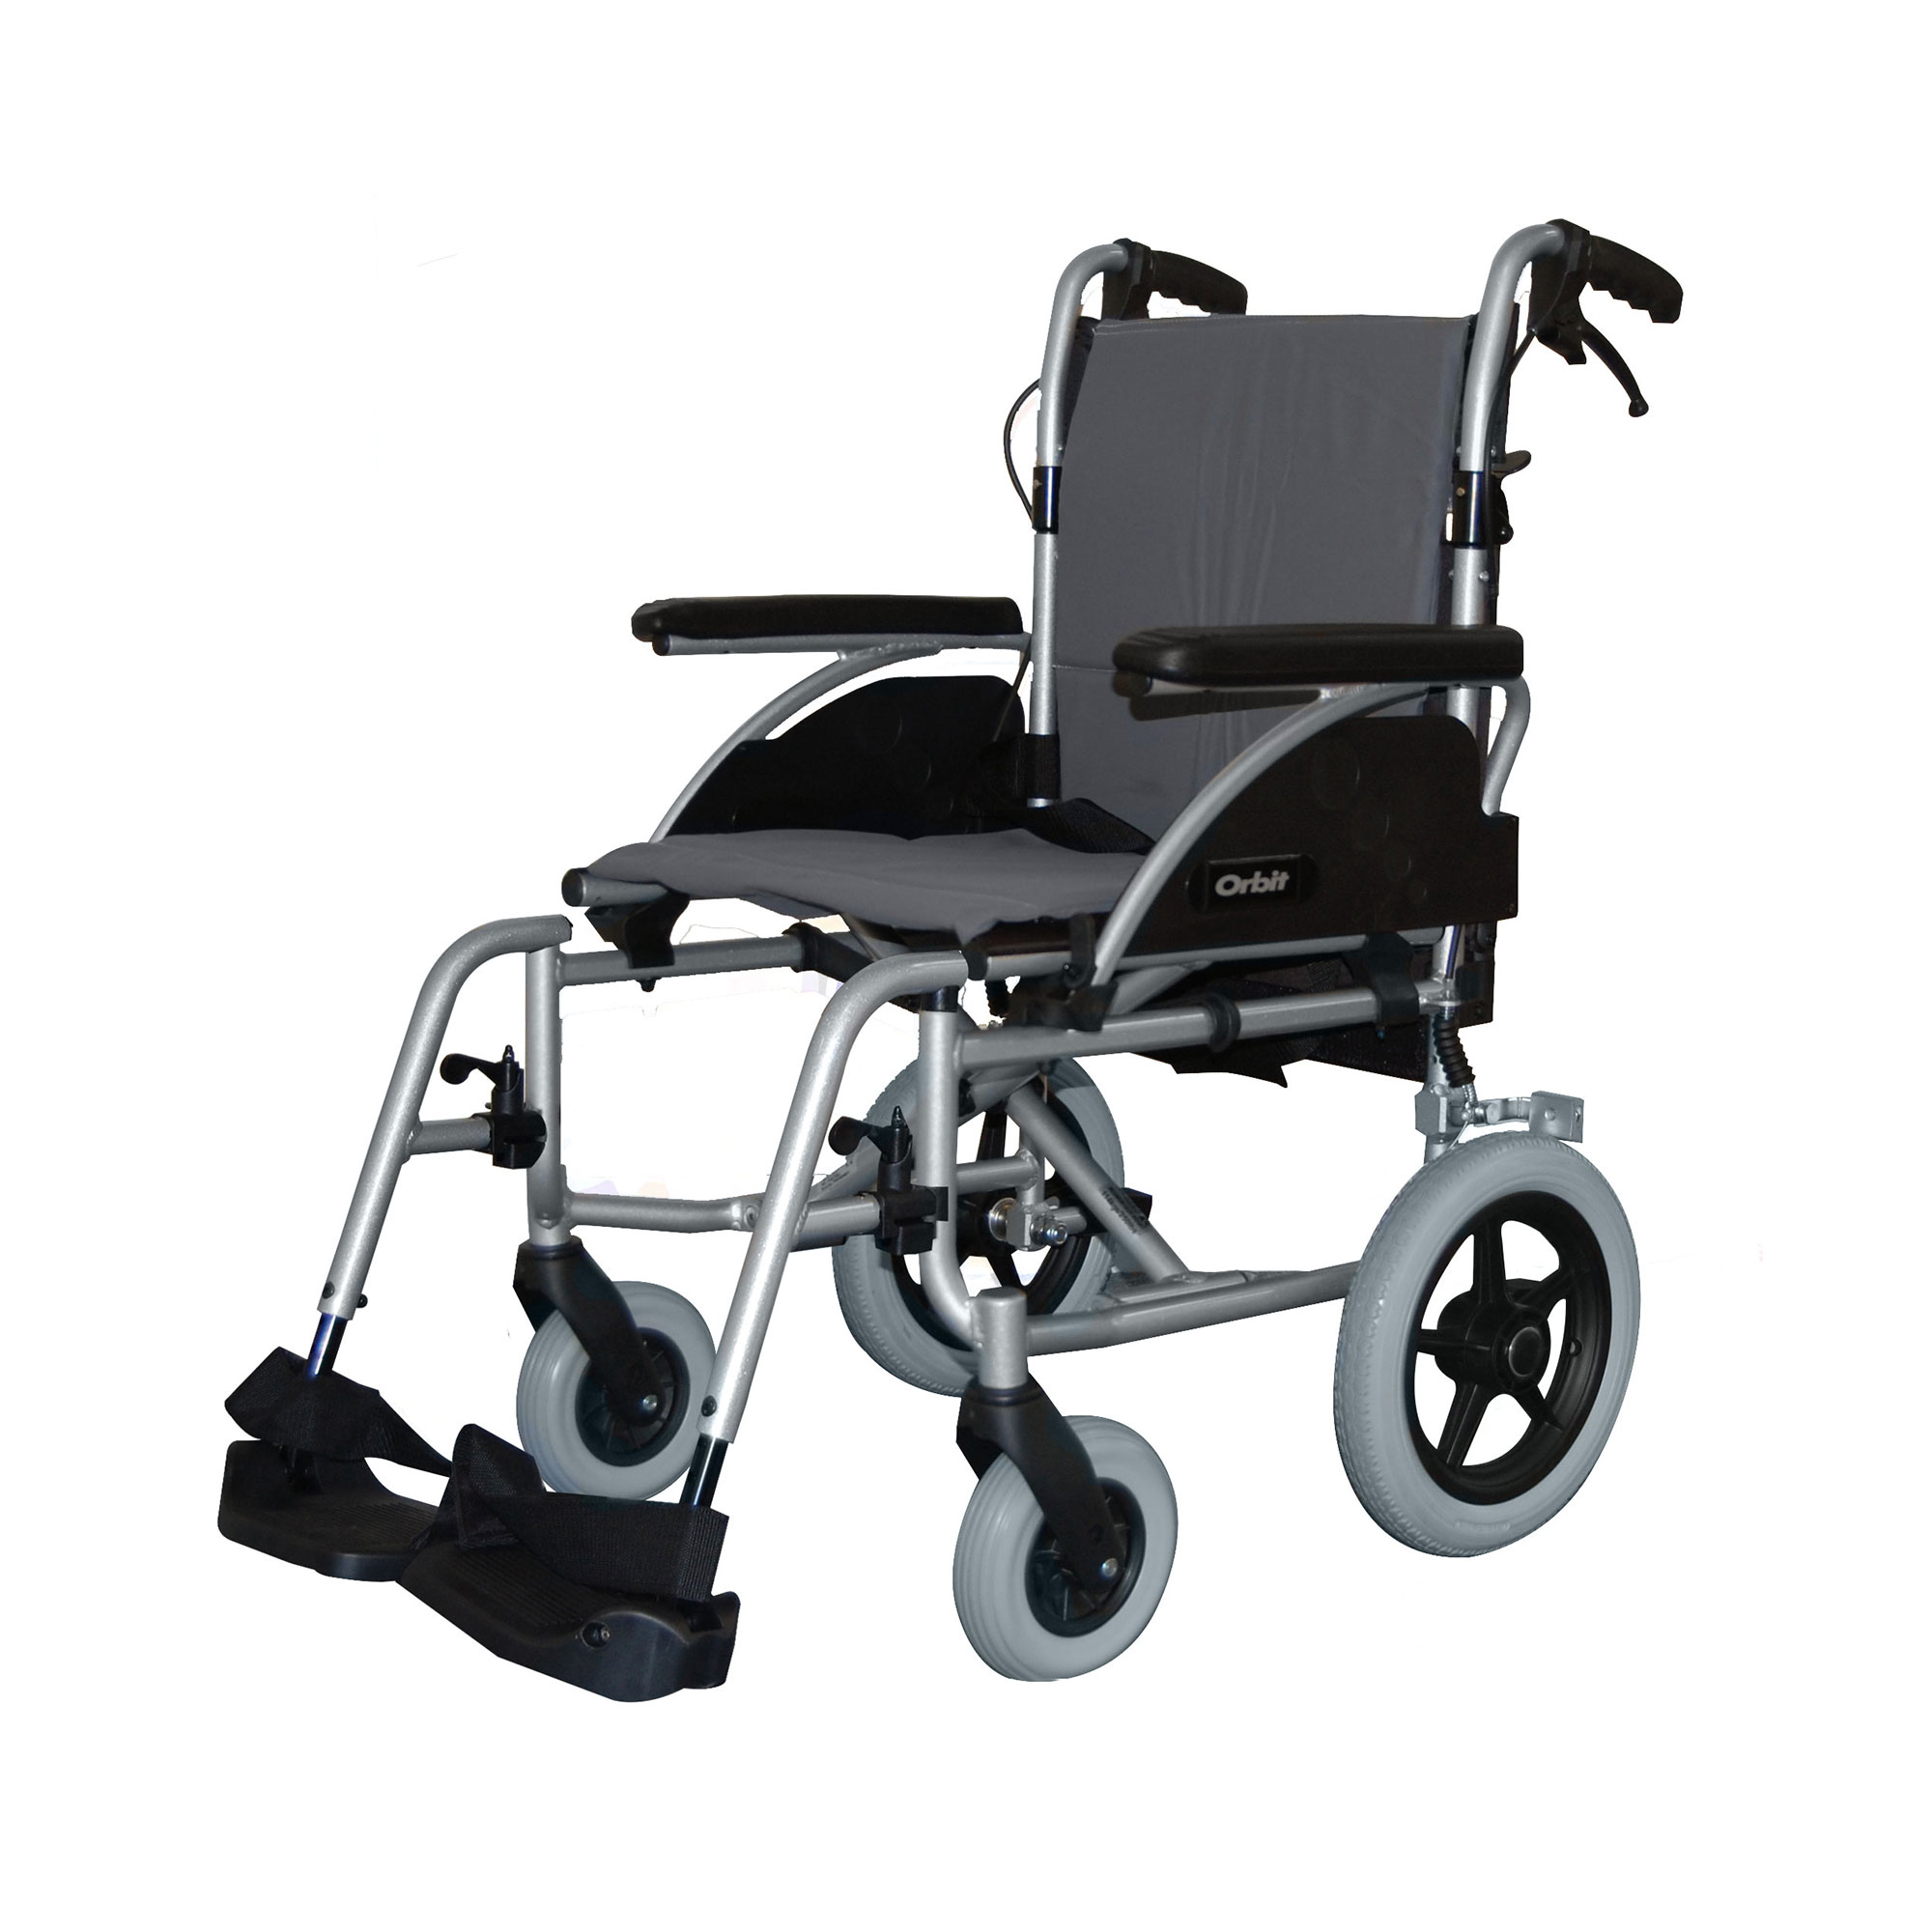wheelchair: (189, 195, 1713, 1714)
